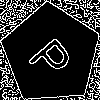P: (26, 29, 81, 84)
